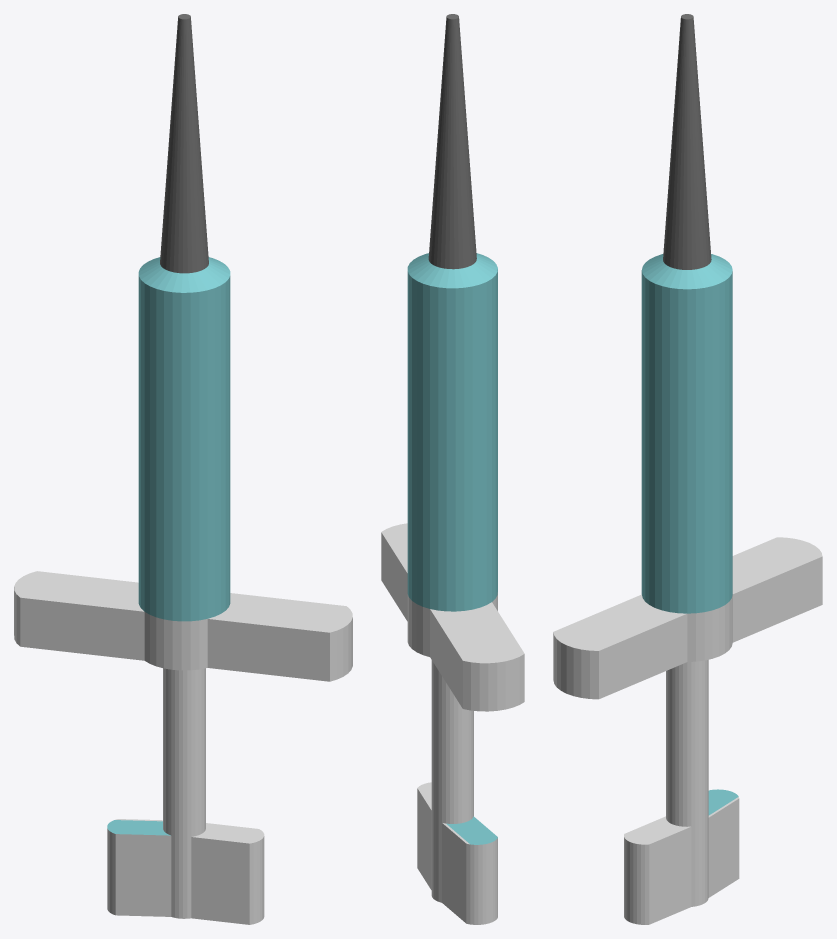
The model's file is meth.fbx.
3 renders of one model, left to right at view 1: azimuth 30°, elevation 25°; view 2: azimuth 150°, elevation 25°; view 3: azimuth 270°, elevation 25°, orthographic.
Visible parts, largest first — view 1: Cylinder; view 2: Cylinder; view 3: Cylinder.
Part boxes in pixels (x1=…): Cylinder: x1=14, y1=14, x2=352, y2=924; Cylinder: x1=381, y1=14, x2=524, y2=924; Cylinder: x1=553, y1=14, x2=822, y2=924.
Bounding box in the file's own units: 1266 × 4573 × 1266.
